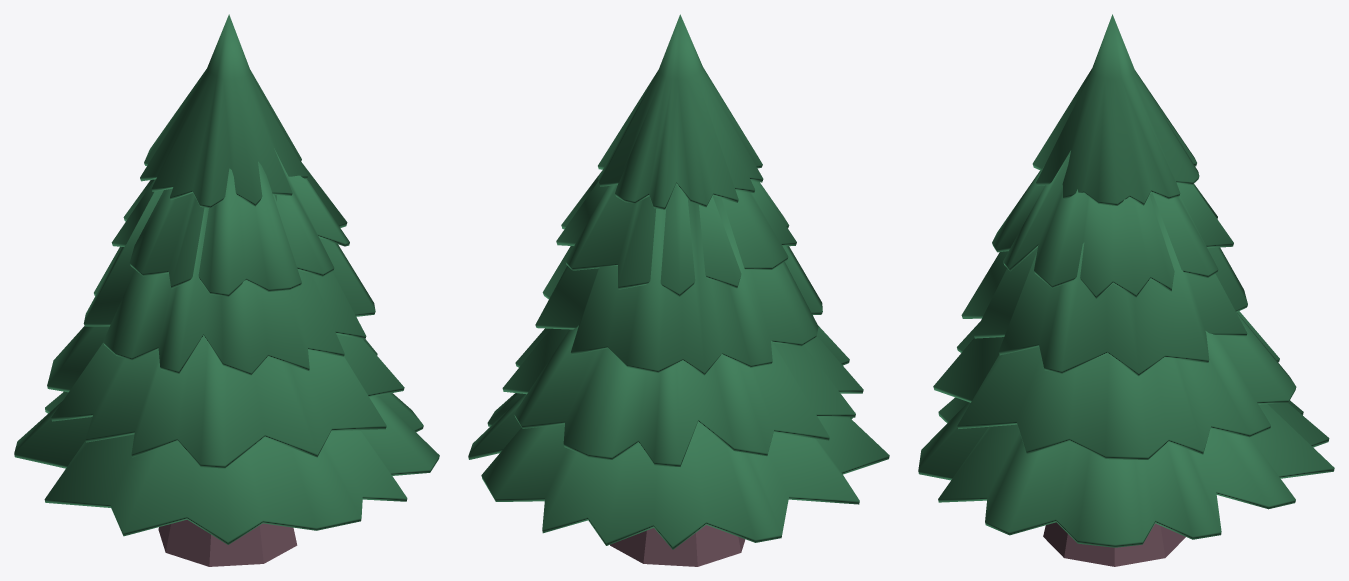
File: ArvoreGrande.fbx
The picture shows the model from 3 angles, left to right: view 1: azimuth 30°, elevation 25°; view 2: azimuth 150°, elevation 25°; view 3: azimuth 270°, elevation 25°; orthographic projection.
Parts seen in each view (by area): view 1: ArvoreGrande_LOD0; view 2: ArvoreGrande_LOD0; view 3: ArvoreGrande_LOD0.
Part boxes in pixels (x1,y1,x2,y2): ArvoreGrande_LOD0: (14, 14, 439, 566); ArvoreGrande_LOD0: (468, 14, 889, 566); ArvoreGrande_LOD0: (918, 14, 1334, 566).
Size of what is drawn, in the model's own units: 581 by 794 by 574.
